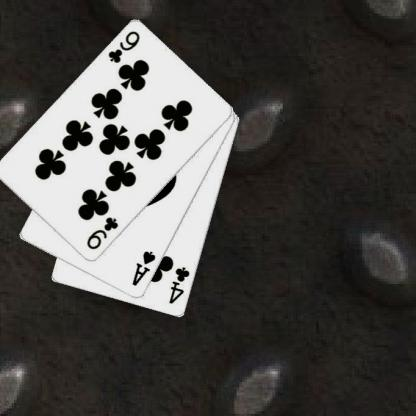4C: (166, 264, 191, 306)
9C: (105, 29, 141, 65), (84, 215, 119, 251)
AS: (129, 249, 157, 287)
